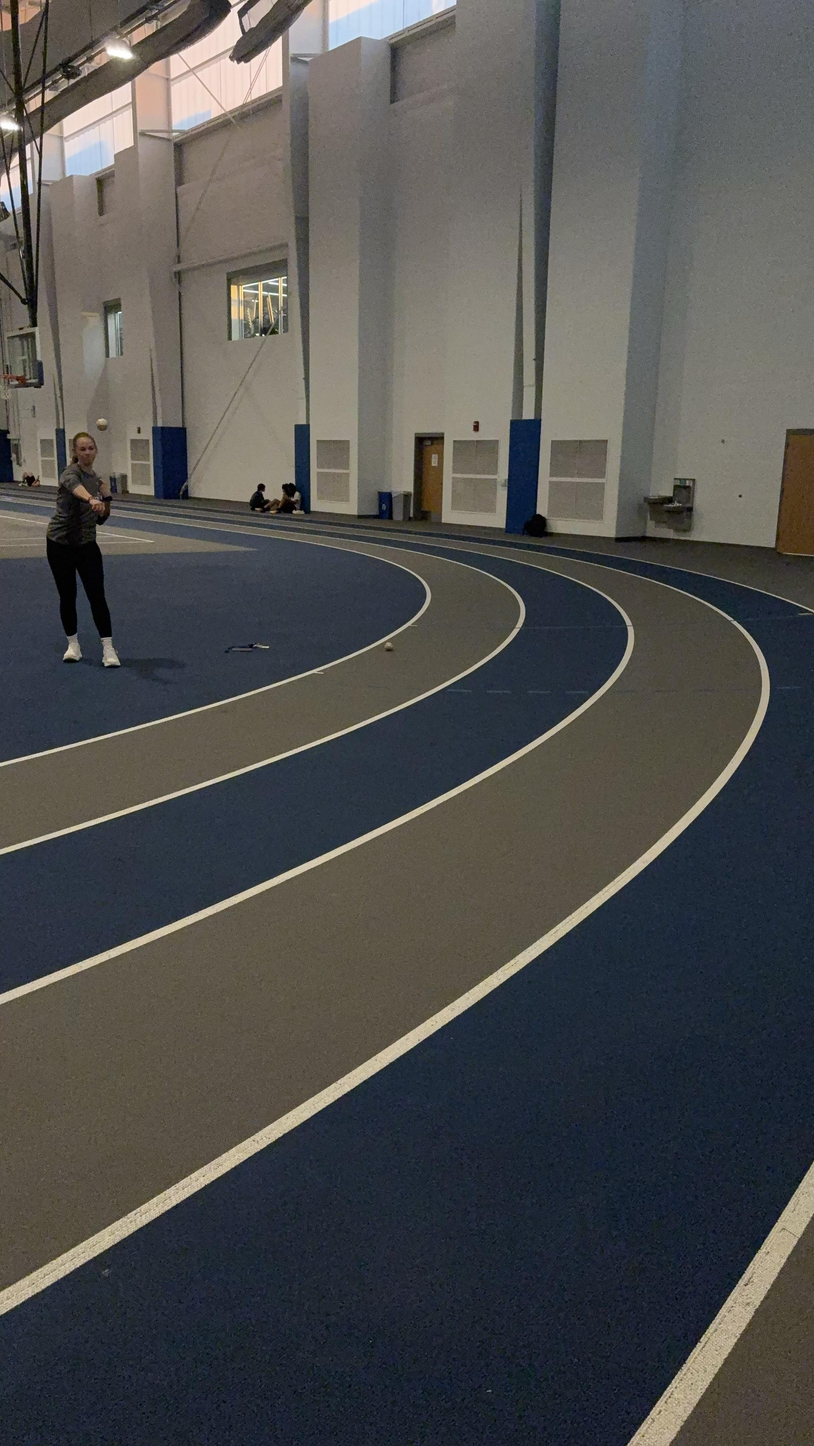Baseball: (95, 416, 109, 432), (381, 641, 395, 654)
